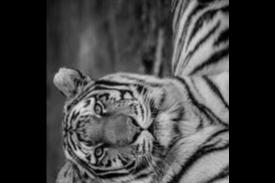Non_Gorille: (47, 0, 225, 183)
